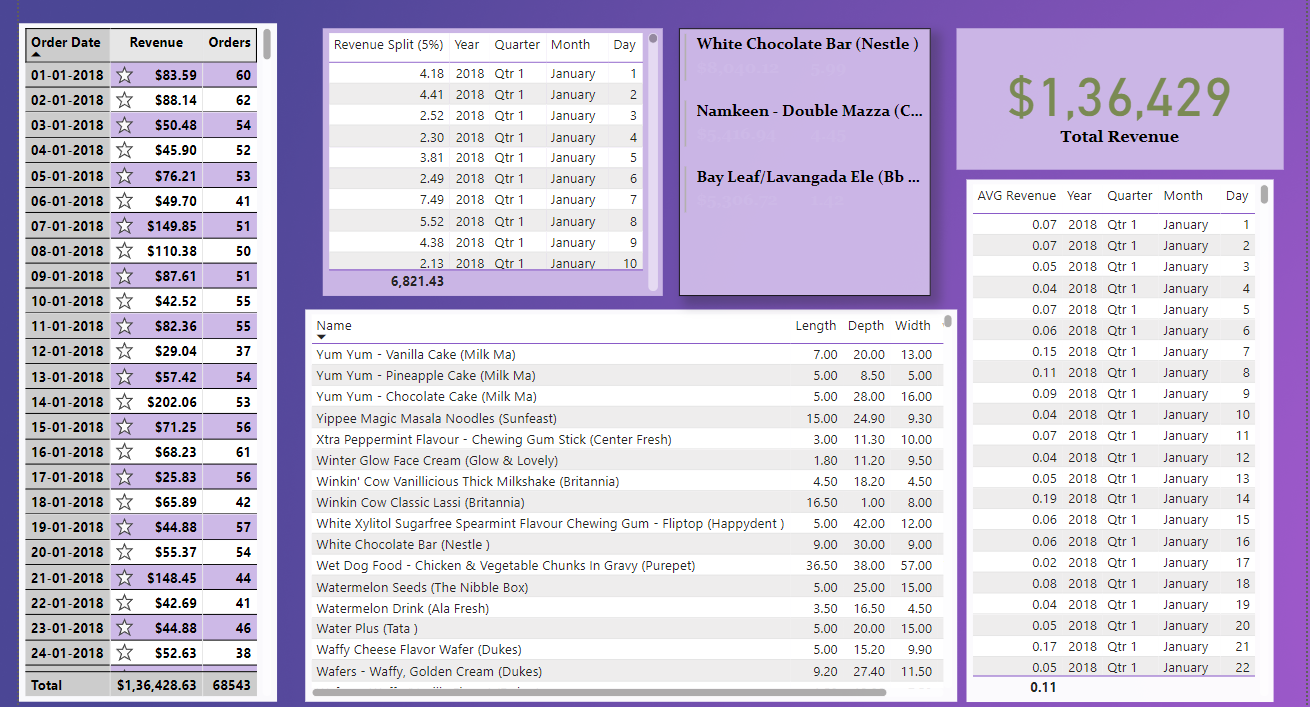

The page's visual inventory and layout, read from the dashboard file:
{"tool":"powerbi","page":{"name":"Tables","canvas":[1280,720],"ordinal":1},"visuals":[{"type":"tableEx","fields":{"Values":["sales.order_date","Sum(sales.revenue)","Count(sales.order_id)"]},"box":[0,31.1,256.6,675],"z":0},{"type":"tableEx","fields":{"Values":["Product_Hierarchy.Product (Brand)","Product_Hierarchy.Length","Product_Hierarchy.Depth","Product_Hierarchy.Width","Product_Hierarchy.volume"]},"box":[284.4,315.4,648.8,390.6],"z":1000},{"type":"card","fields":{"Values":["Sum(sales.revenue)"]},"box":[933.2,36,325.2,140.6],"z":2000},{"type":"multiRowCard","fields":{"Values":["Sum(sales.revenue)","Avg(sales.sales)","Product_Hierarchy.Product (Brand)"]},"box":[657,36,250.1,266.4],"z":3000},{"type":"tableEx","fields":{"Values":["sales.Revenue Split (5%)","Date Dimmension.order_date.Variation.Date Hierarchy.Year","Date Dimmension.order_date.Variation.Date Hierarchy.Quarter","Date Dimmension.order_date.Variation.Date Hierarchy.Month","Date Dimmension.order_date.Variation.Date Hierarchy.Day"]},"box":[302.4,36,338.3,266.4],"z":4000},{"type":"tableEx","fields":{"Values":["sales.AVG Revenue","Date Dimmension.order_date.Variation.Date Hierarchy.Year","Date Dimmension.order_date.Variation.Date Hierarchy.Quarter","Date Dimmension.order_date.Variation.Date Hierarchy.Month","Date Dimmension.order_date.Variation.Date Hierarchy.Day"]},"box":[943,186.3,305.6,519.7],"z":5000}]}

Visuals, with their boxes in screenshot pixels (x1, y1, x2, y2):
tableEx - sales.order_date x Sum(sales.revenue): bbox(17, 18, 274, 694)
tableEx - Product_Hierarchy.Product (Brand) x Product_Hierarchy.Length: bbox(302, 303, 953, 694)
card - Sum(sales.revenue): bbox(953, 22, 1279, 163)
multiRowCard - Sum(sales.revenue) x Avg(sales.sales): bbox(676, 22, 927, 290)
tableEx - sales.Revenue Split (5%) x Date Dimmension.order_date.Variation.Date Hierarchy.Year: bbox(320, 22, 660, 290)
tableEx - sales.AVG Revenue x Date Dimmension.order_date.Variation.Date Hierarchy.Year: bbox(963, 173, 1269, 694)
